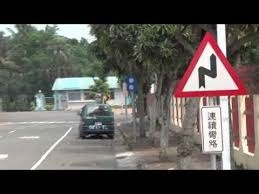Double_bend_right: (171, 31, 249, 97)
